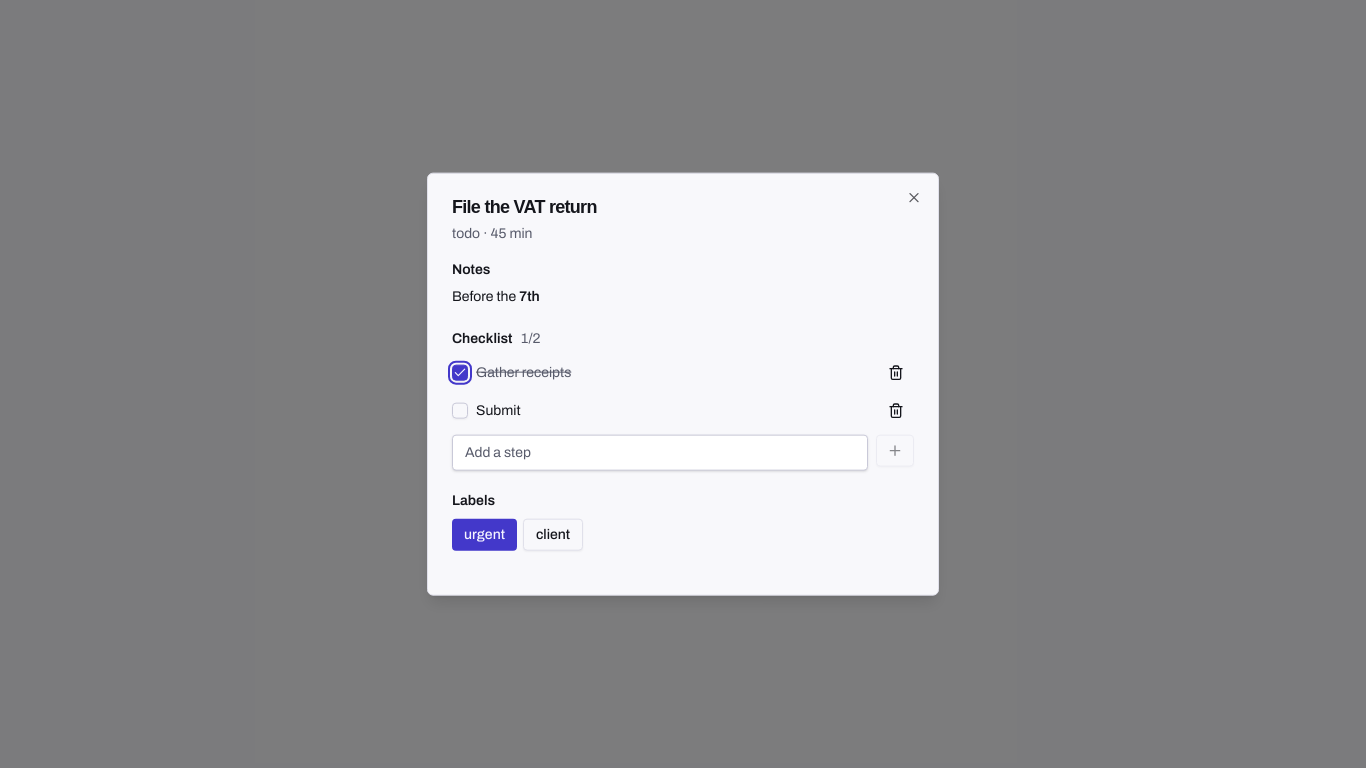
Test: CardDetailSheet › rolls a failed label change back
Click the button "client": point(553, 534) [523,518,583,550]
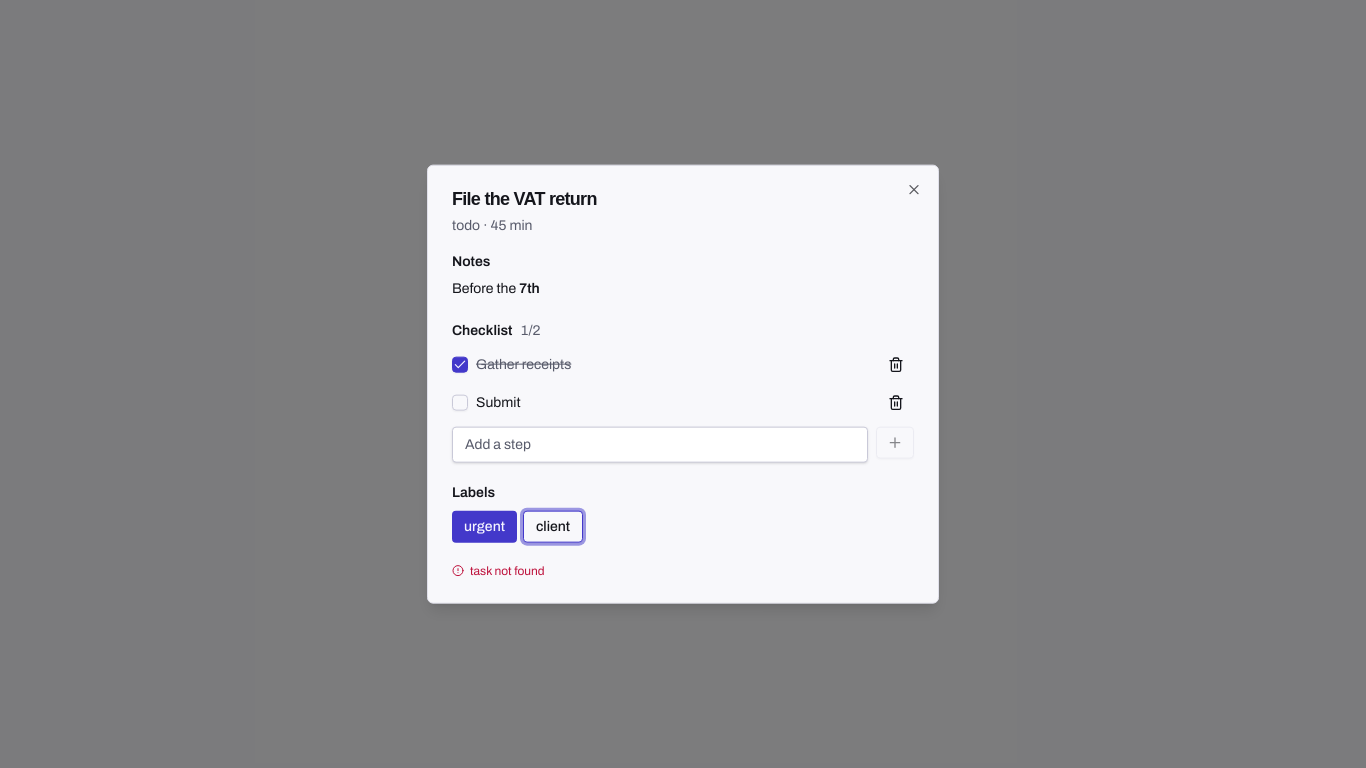
Now the text "task not found" is shown, box [452,563,545,577]
